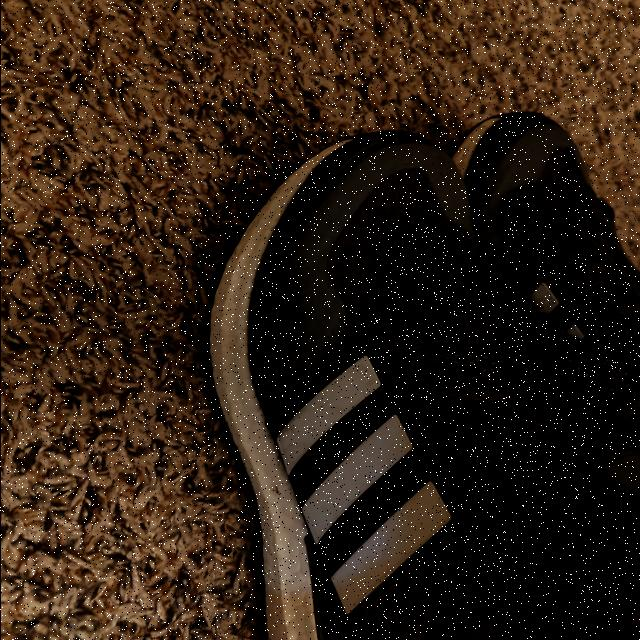black shoes: (262, 110, 640, 640)
